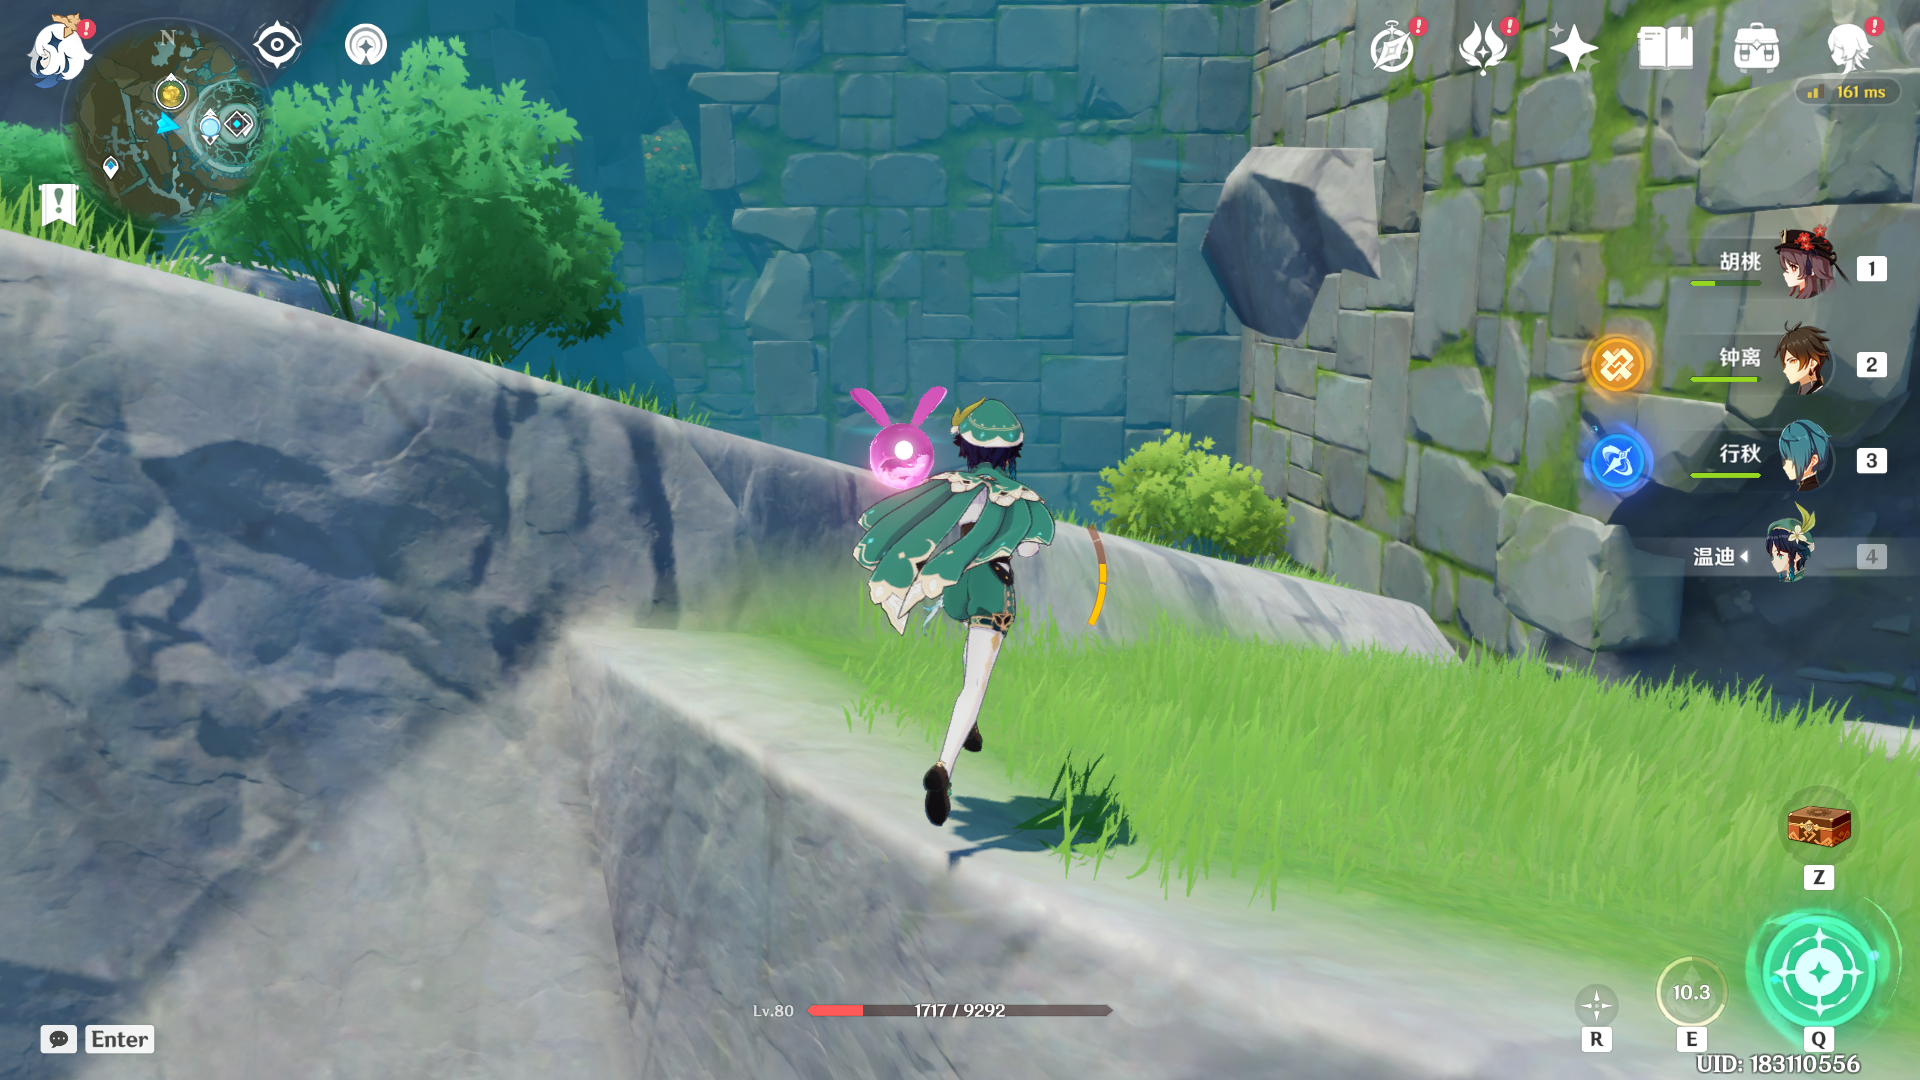character: (832, 307, 1112, 843)
